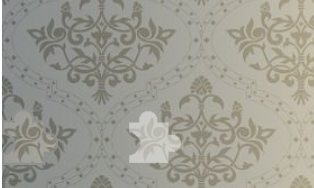target: (123, 108, 187, 166)
